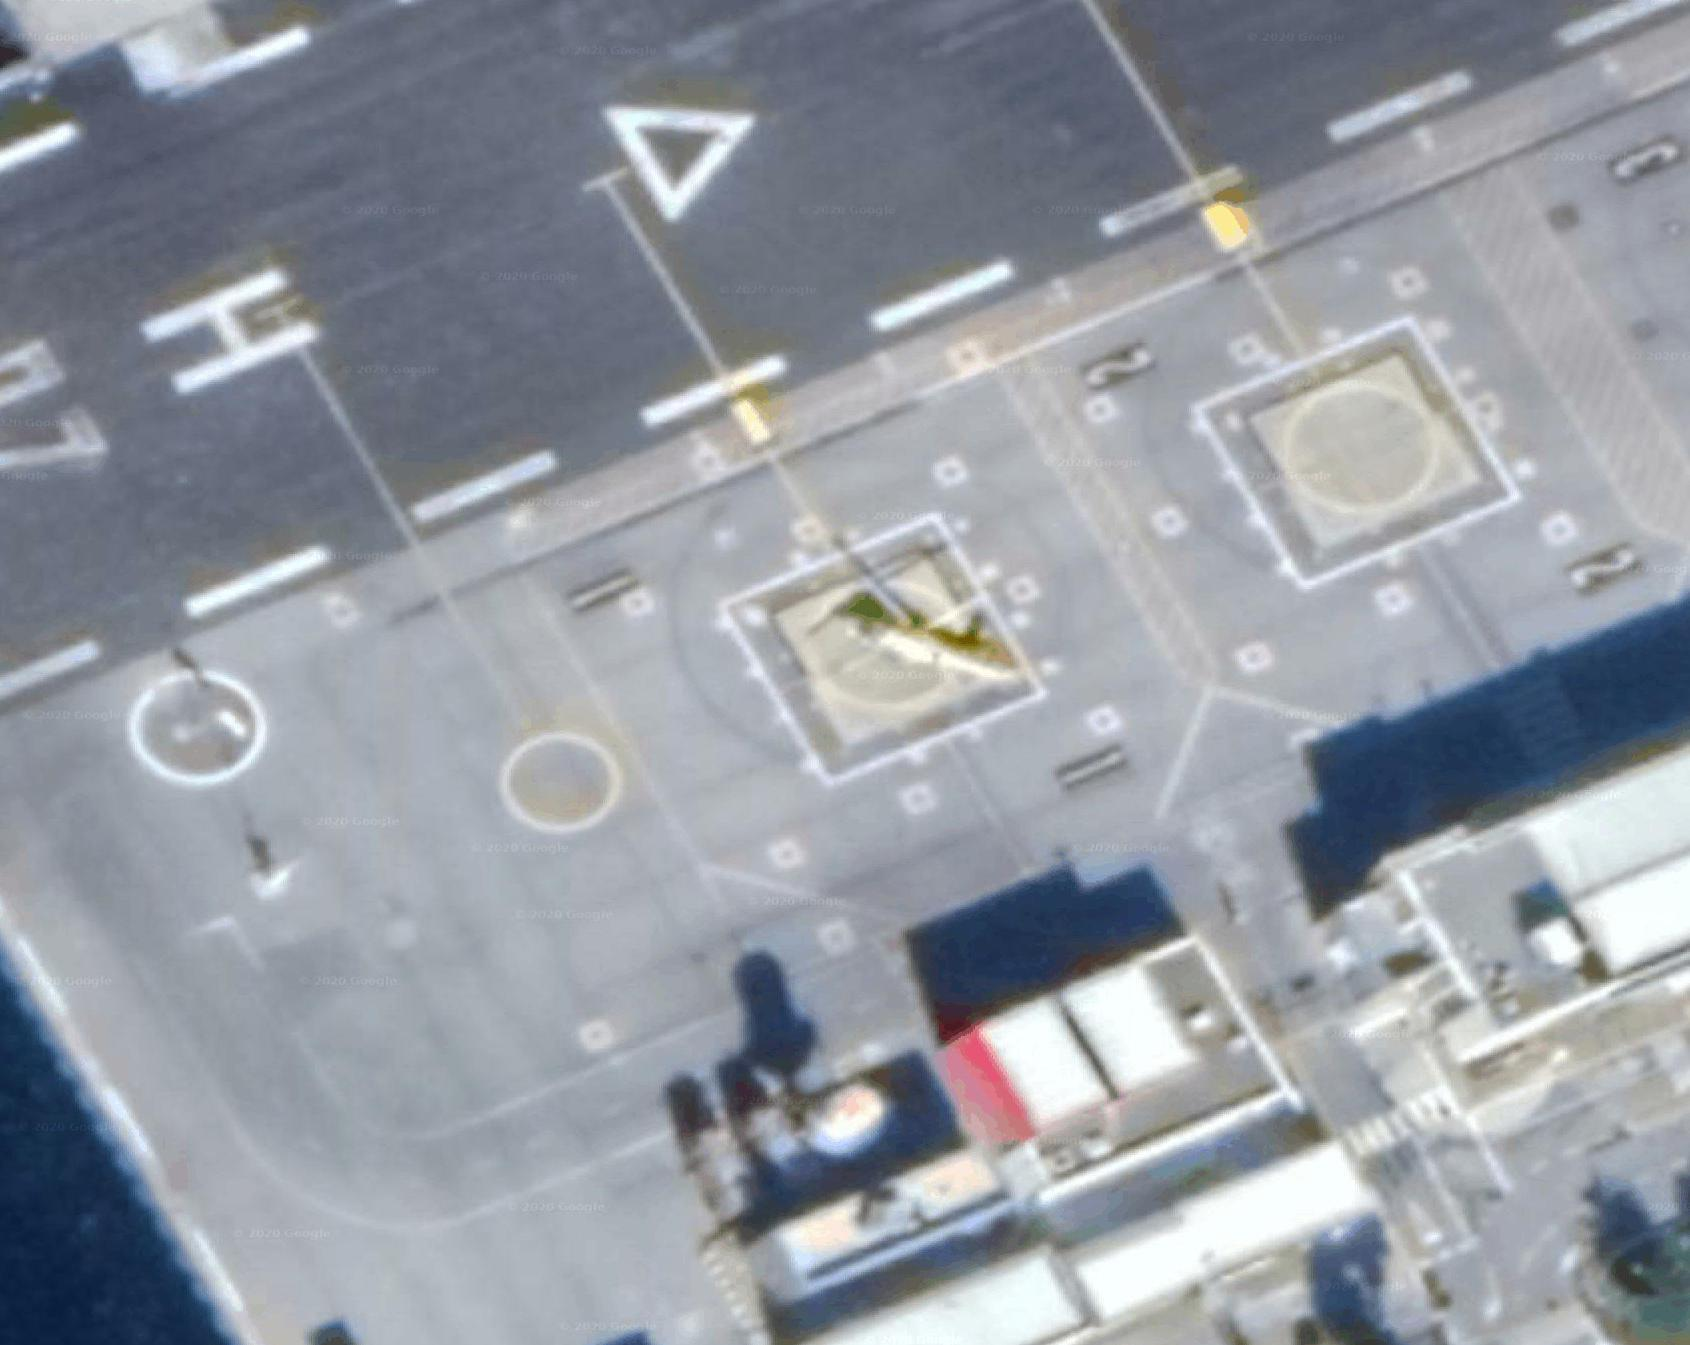helicopter: (820, 539, 1043, 704)
helipad: (716, 498, 1134, 777)
